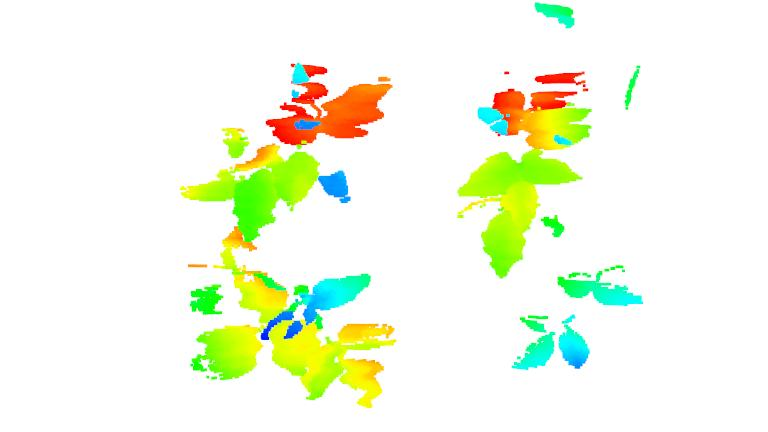mungbean: (183, 234, 415, 405), (174, 60, 394, 238), (456, 62, 596, 280), (508, 266, 642, 375)
